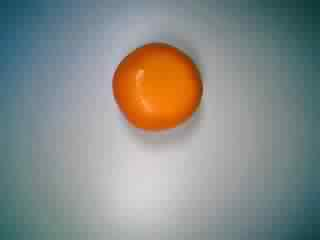orange: (106, 36, 207, 133)
